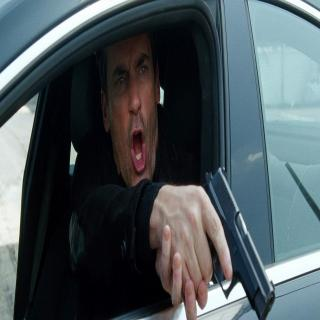gun: (166, 162, 276, 320)
